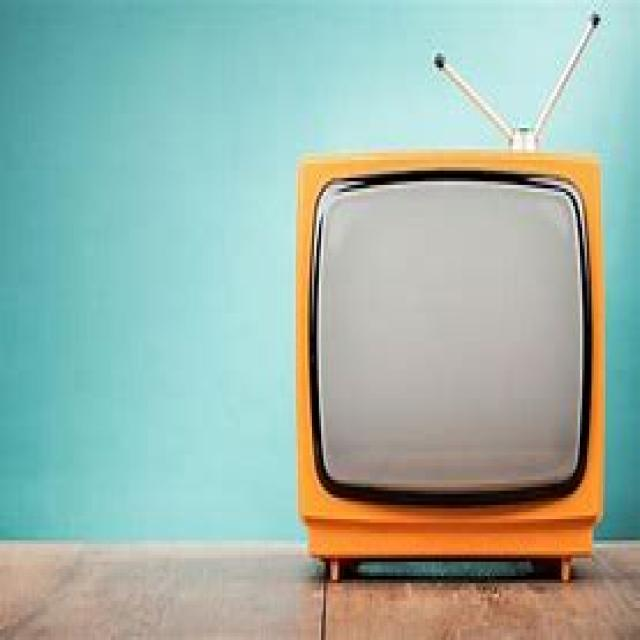tv: (294, 146, 606, 580)
